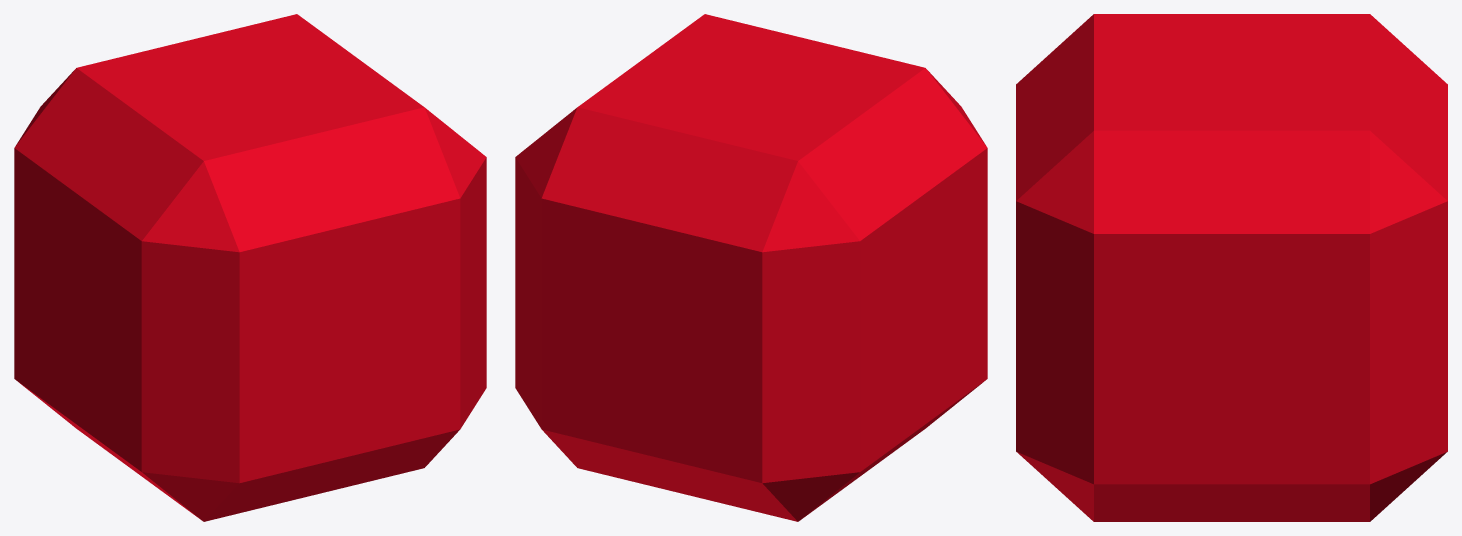
Rendered from Blueprint1.glb.
3 renders of one model, left to right at view 1: azimuth 30°, elevation 25°; view 2: azimuth 150°, elevation 25°; view 3: azimuth 270°, elevation 25°, orthographic. The views are drawn at different scales.
Parts seen in each view (by area): view 1: Blueprint1_mesh; view 2: Blueprint1_mesh; view 3: Blueprint1_mesh.
Boxes of the visible parts, <box> form: Blueprint1_mesh: <box>14,14,486,521</box>; Blueprint1_mesh: <box>515,14,987,521</box>; Blueprint1_mesh: <box>1016,14,1447,521</box>.
Size of the model in its own units: 2 by 2 by 2.
